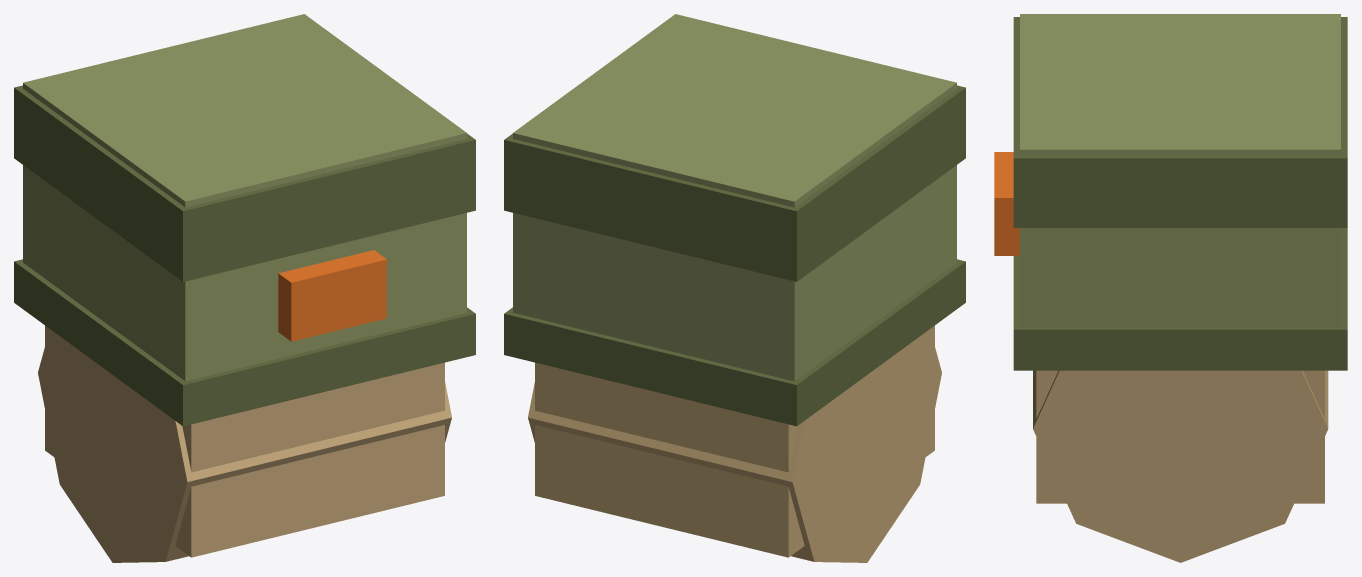
Rendered from pc_engineer_upper_arm.fbx.
3 views of the same model, side by side, from view 1: azimuth 30°, elevation 25°; view 2: azimuth 150°, elevation 25°; view 3: azimuth 270°, elevation 25° (orthographic).
Parts seen in each view (by area): view 1: pc_engineer_upper_arm; view 2: pc_engineer_upper_arm; view 3: pc_engineer_upper_arm.
Part boxes in pixels (bbox=[...]): pc_engineer_upper_arm: bbox=[14, 14, 475, 562]; pc_engineer_upper_arm: bbox=[504, 14, 965, 562]; pc_engineer_upper_arm: bbox=[994, 14, 1347, 562].
Bounding box in the file's own units: 104 × 144 × 110.
